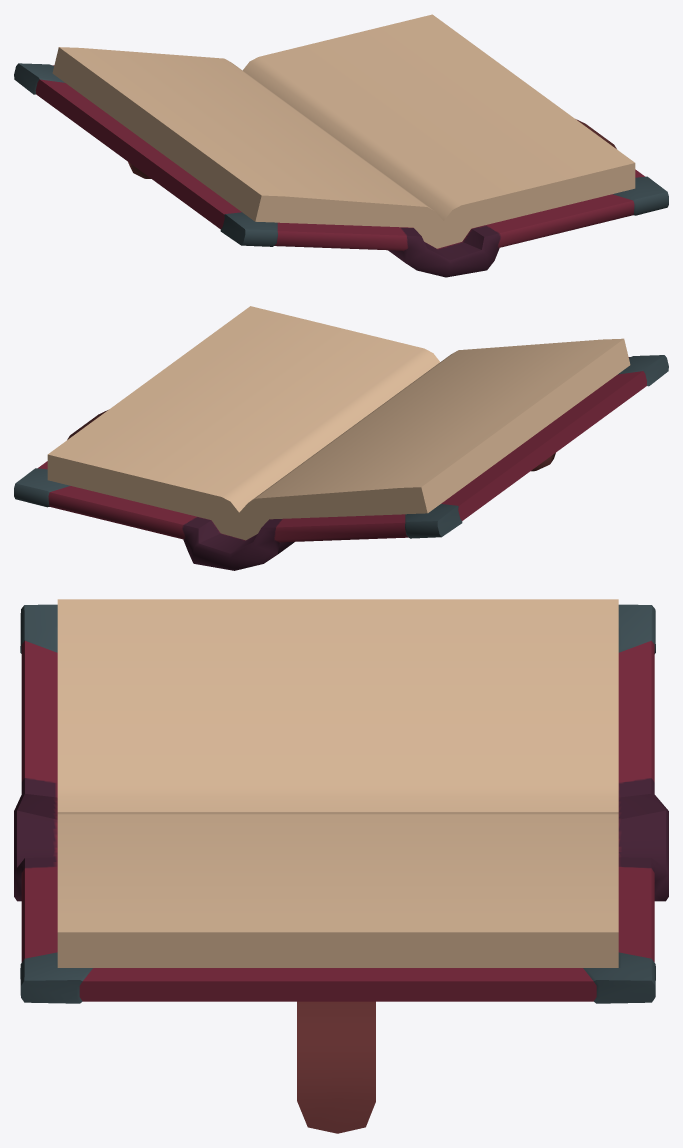
The model's file is GrimoireMenu.fbx.
3 renders of one model, top to bottom at view 1: azimuth 30°, elevation 25°; view 2: azimuth 150°, elevation 25°; view 3: azimuth 270°, elevation 25°, orthographic. The views are drawn at different scales.
Parts seen in each view (by area): view 1: Grimoire; view 2: Grimoire; view 3: Grimoire.
Boxes of the visible parts, box(x1,y1,x2,y2) form: Grimoire: box(14, 14, 668, 277); Grimoire: box(14, 306, 668, 570); Grimoire: box(14, 599, 668, 1133).
Size of the model in its own units: 422 by 138 by 352.
